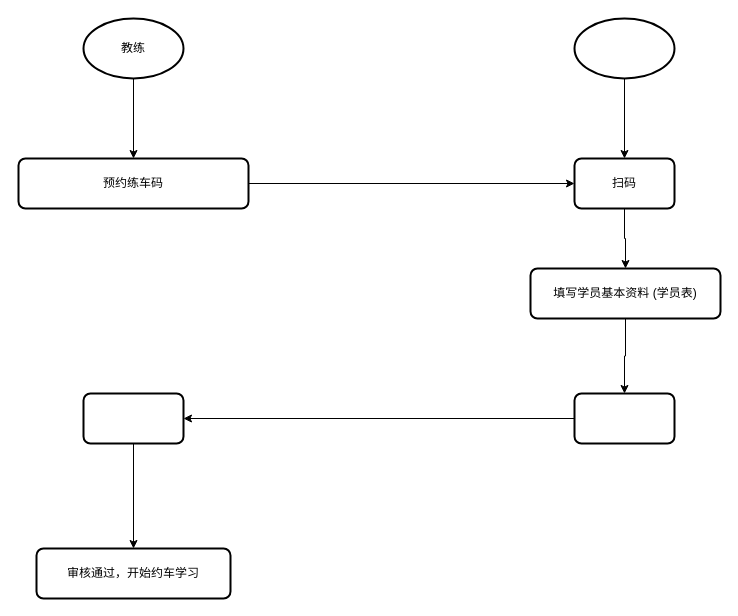
This 738x616 diagram has some shape labels left out. The shapes that lost their labels are listed below. From the top down, each one's centre as x and y in pixels, then its label:
At point (624, 48): "学员".
At point (133, 418): "审核".
At point (624, 418): "提交".
